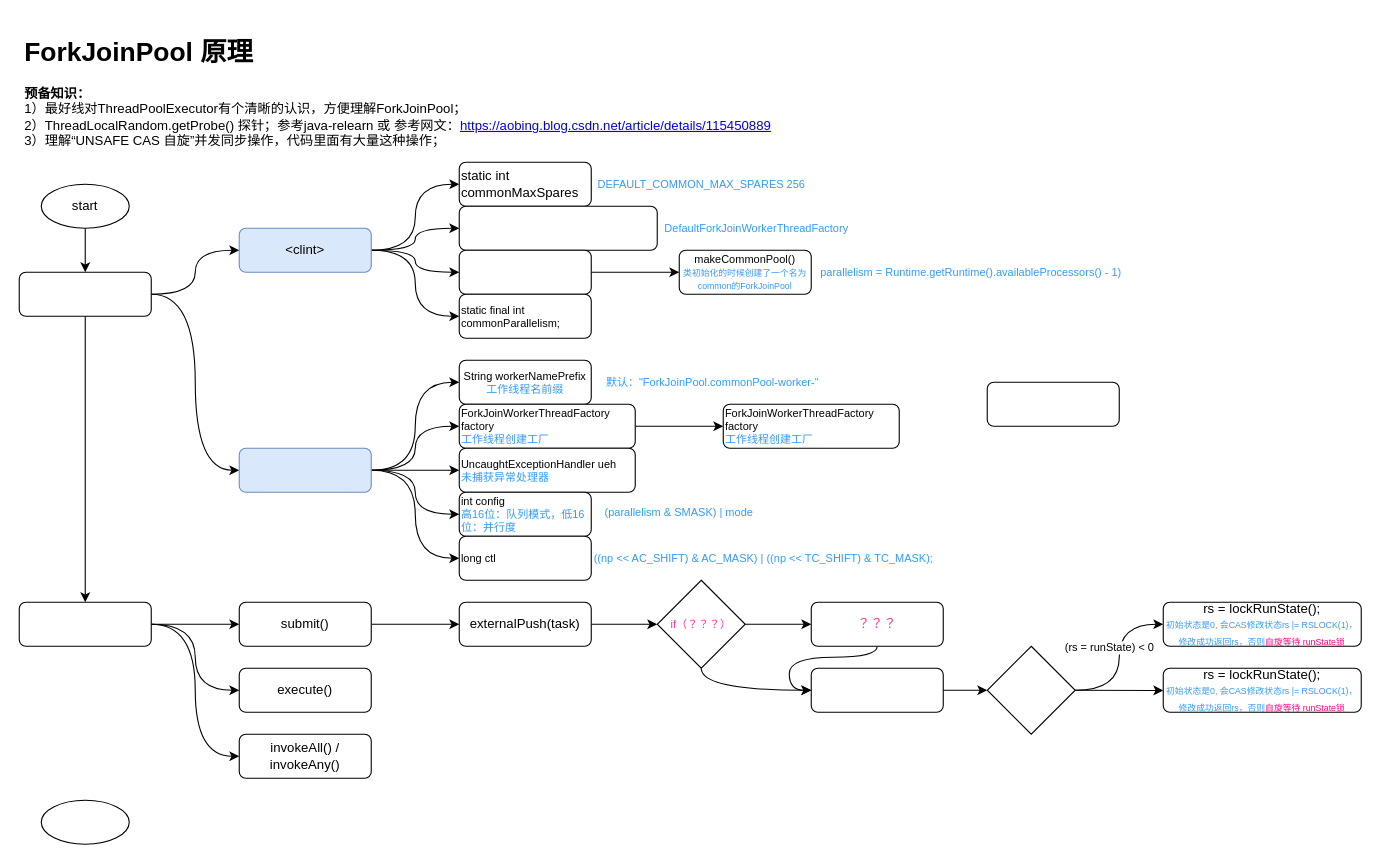
This 1381x864 diagram has some shape labels left out. Here are the shapes that lost their labels. From the top down, the centre of each, then its label:
At point 557,227: "static final ForkJoinWorkerThreadFactory defaultForkJoinWorkerThreadFactory".
At point 524,271: "static final ForkJoinPool common;".
At point 84,293: "new ForkJoinPool()".
At point 1052,403: "volatile int runState".
At point 304,469: "<init>".
At point 84,623: "提交任务".
At point 876,689: "externalSubmit(task)".
At point 1030,689: "rs 状态判断".
At point 84,821: "end".
